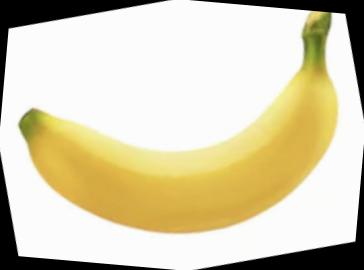Banana Ripe: (0, 9, 361, 253)
